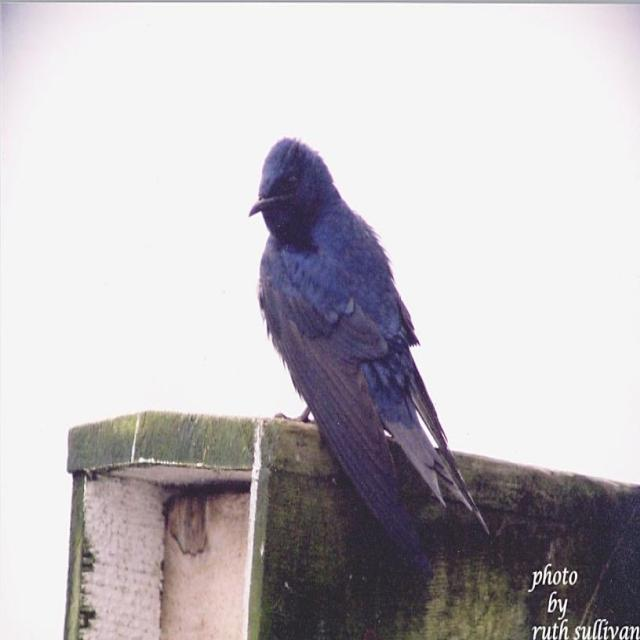bird: (248, 135, 492, 567)
